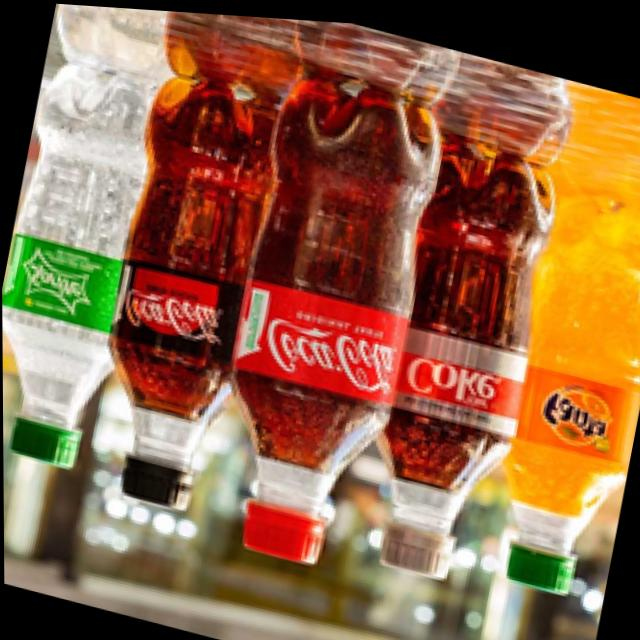plastic_soda_bottles: (192, 54, 451, 575), (346, 129, 565, 594), (76, 60, 294, 527), (0, 52, 183, 485), (471, 177, 640, 605)
